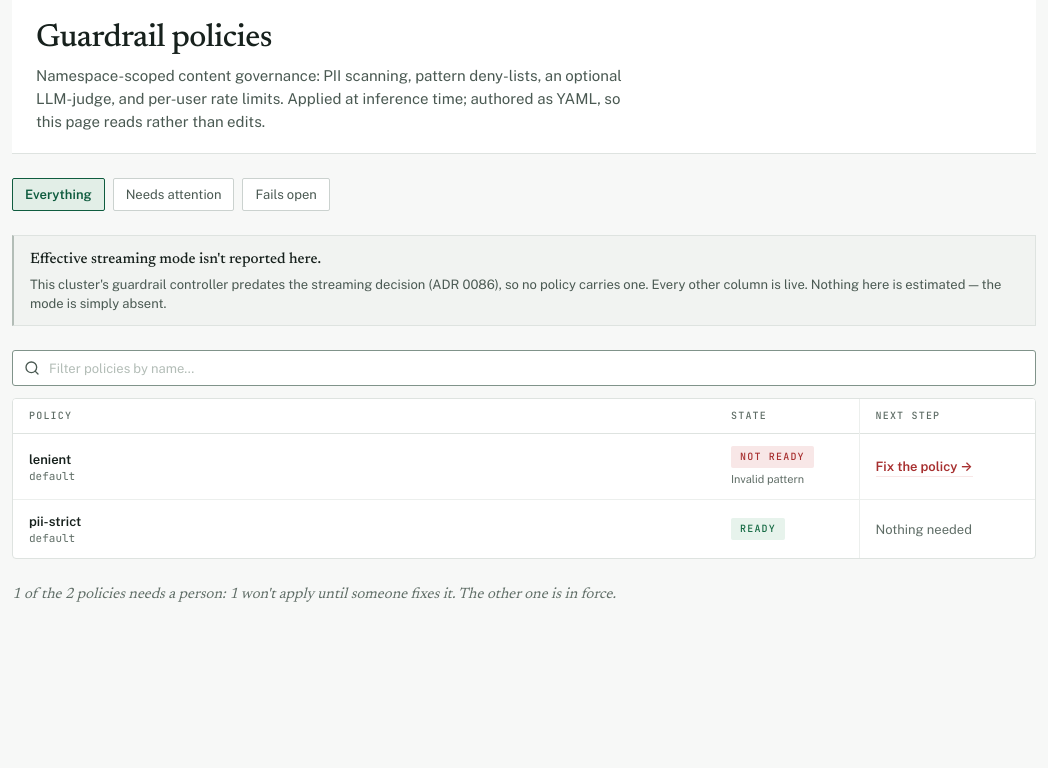
Test: GuardrailPoliciesPage (m66.10) › filters policies by name
The image size is (1048, 768).
Expected: the text "pii-strict" is shown, [29,514,81,529]
Type "len" into the field named "Filter list". click: (524, 368)
box: [12,350,1036,386]
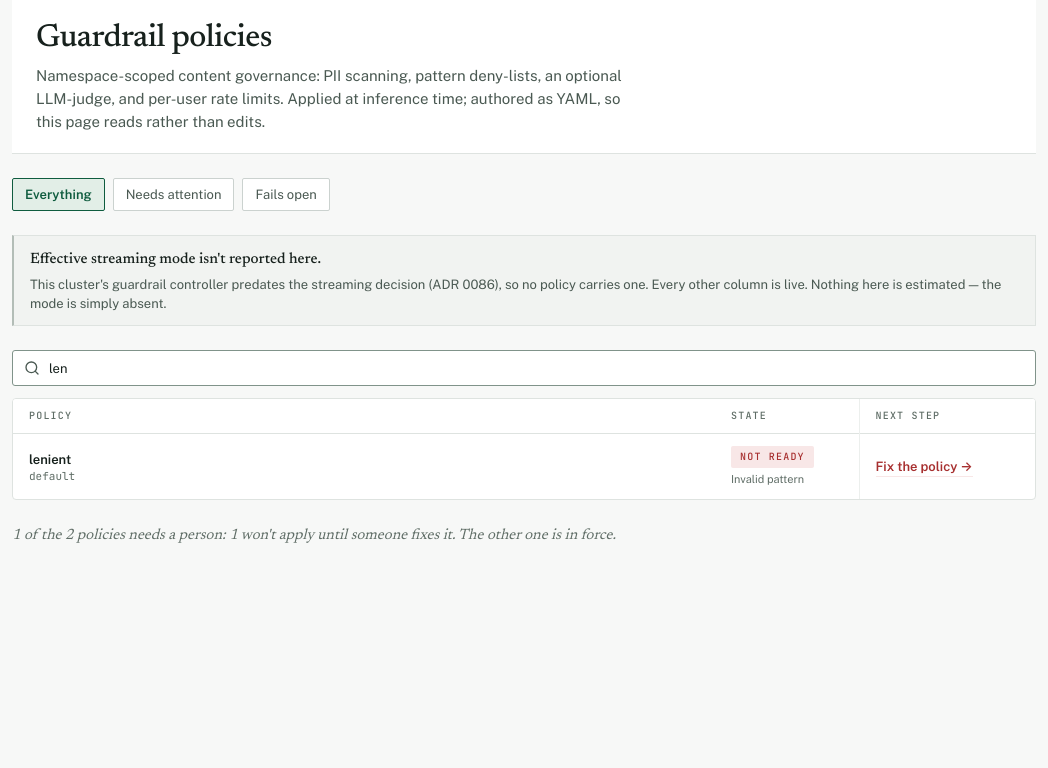
Expected: the text "lenient" is shown, [29,452,71,466]
Now the text "pii-strict" is gone
